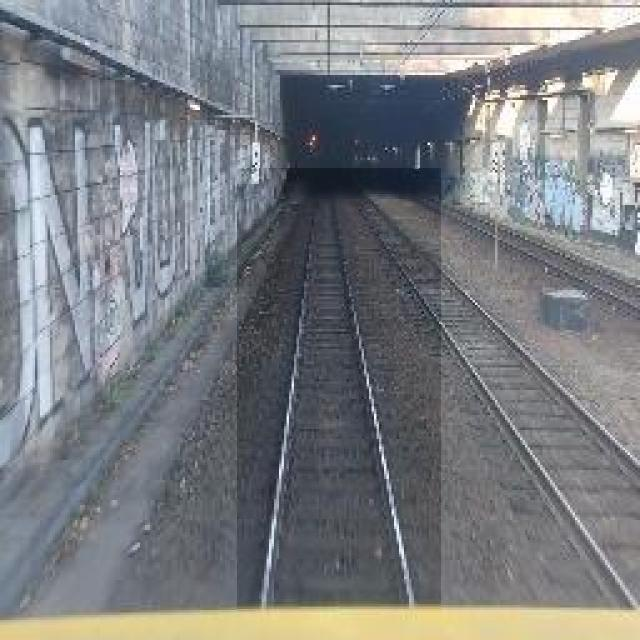rail: (238, 170, 442, 612)
